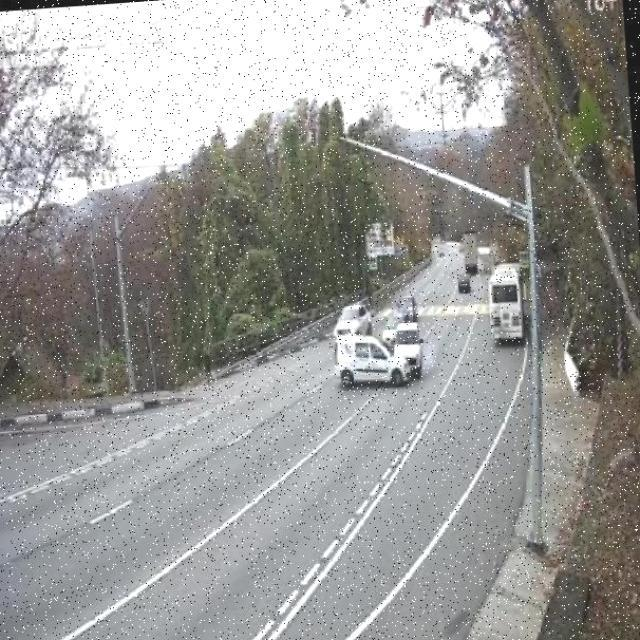accident: (332, 318, 428, 391)
